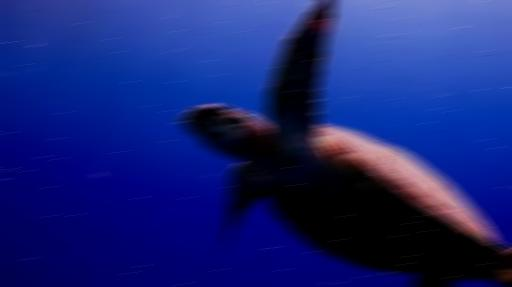Fish: (179, 0, 511, 286)
